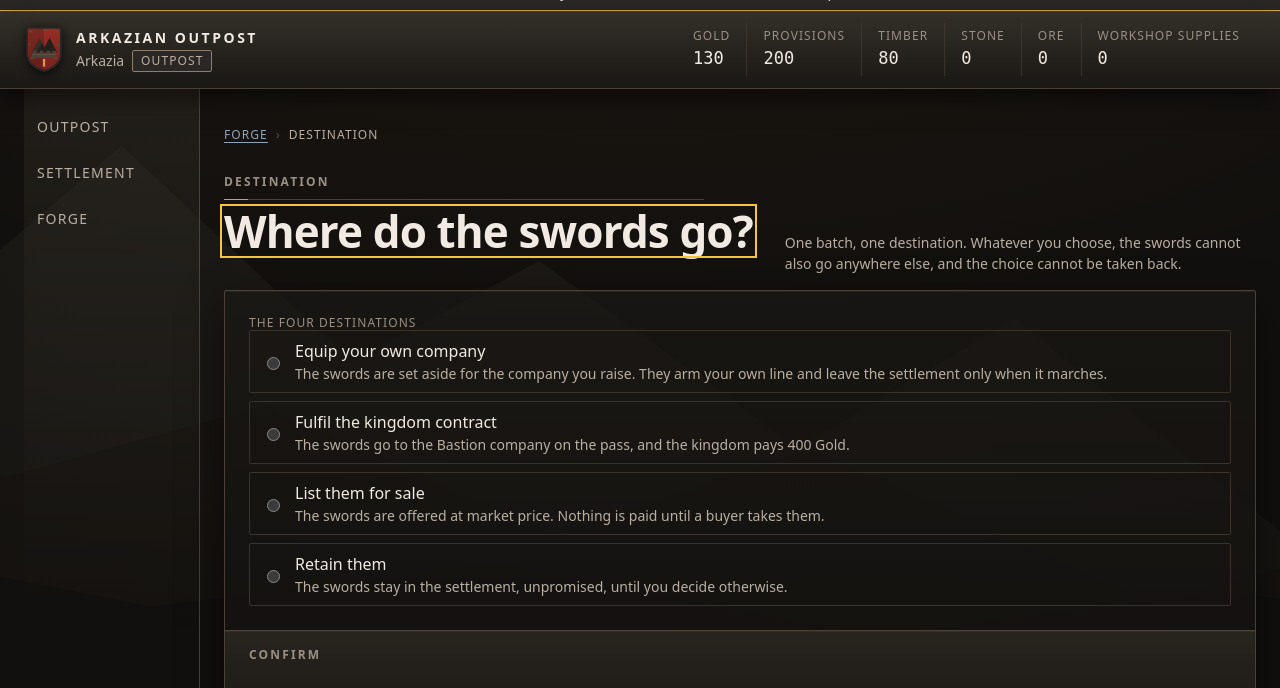
The destination — choosing › disables the decision when offline, with the reason
Click the radio button labelled "Retain them" at coordinates (274, 576), box [267,570,280,583]
(page scrolled)
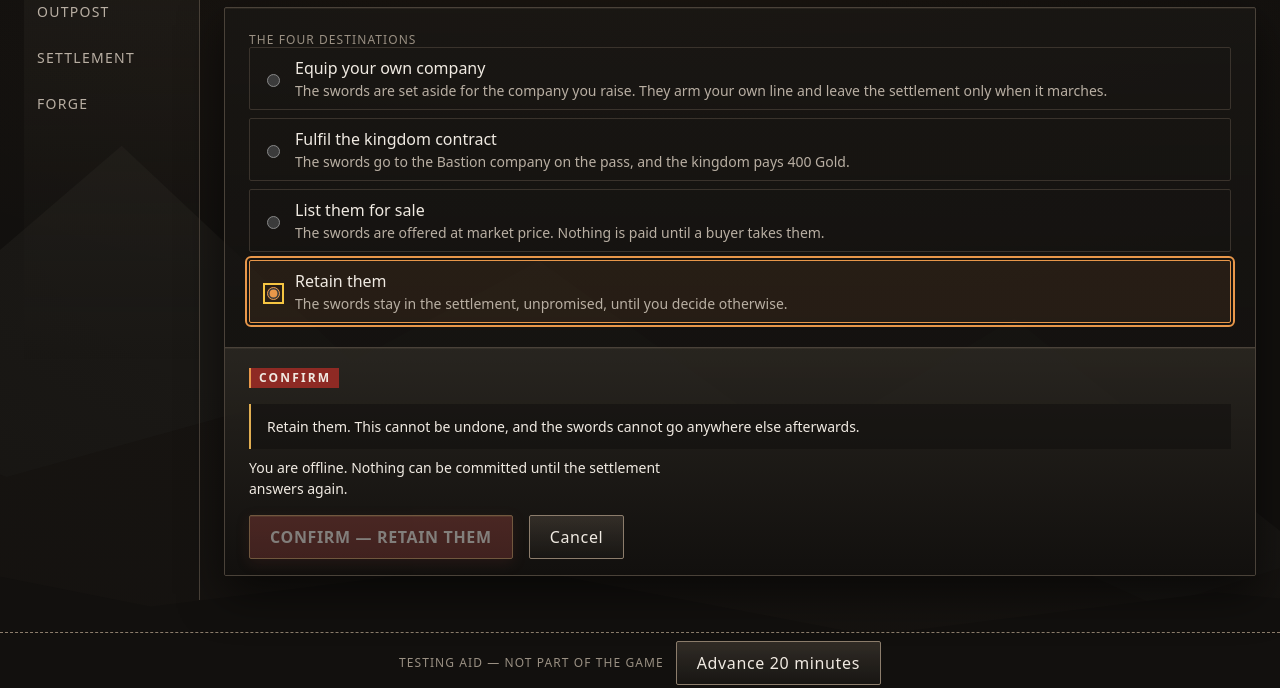
Expected: the text "Nothing can be committed until the settlement answers" is shown, [249,458,660,498]
Expected: the button "Confirm — Retain them" is disabled, [249,515,513,559]
